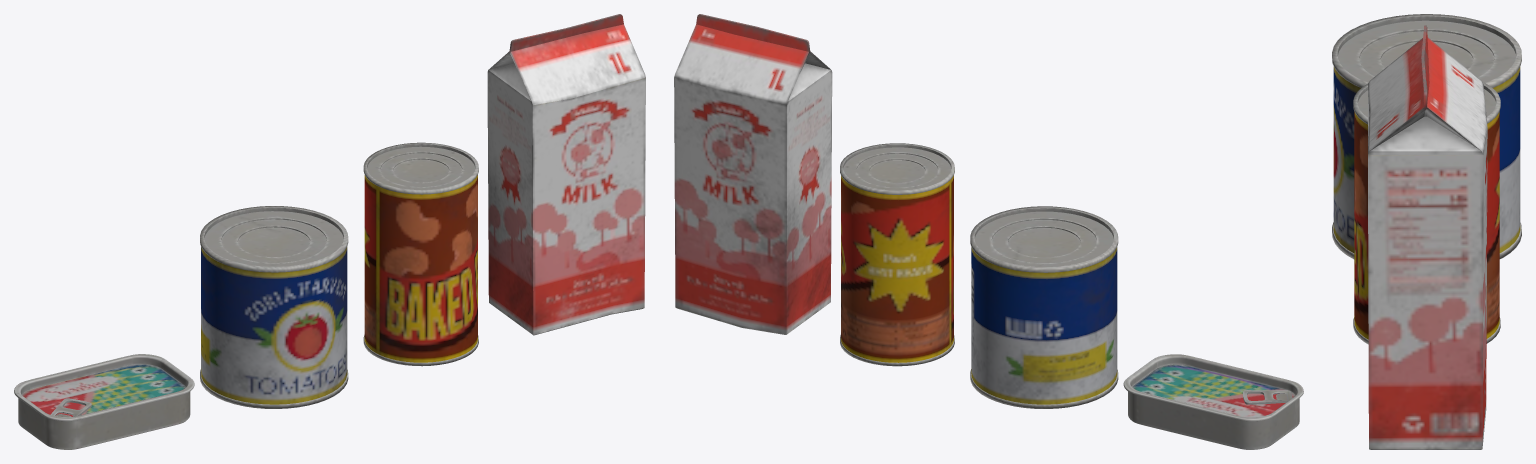
File: long_life_food.db44968049.glb
The picture shows the model from 3 angles, left to right: view 1: azimuth 30°, elevation 25°; view 2: azimuth 150°, elevation 25°; view 3: azimuth 270°, elevation 25°; orthographic projection. The views are drawn at different scales.
Visible parts, largest first — view 1: long_life_food_milk, long_life_food_tomatoes, long_life_food_beans, long_life_food_sardines; view 2: long_life_food_milk, long_life_food_tomatoes, long_life_food_beans, long_life_food_sardines; view 3: long_life_food_milk, long_life_food_tomatoes, long_life_food_beans.
Part boxes in pixels (x1,y1,x2,y2): long_life_food_milk: (487,14,645,335); long_life_food_tomatoes: (200,206,348,408); long_life_food_beans: (363,142,478,366); long_life_food_sardines: (14,354,194,449); long_life_food_milk: (674,14,832,334); long_life_food_tomatoes: (970,206,1118,408); long_life_food_beans: (840,143,954,366); long_life_food_sardines: (1123,354,1303,449); long_life_food_milk: (1368,25,1487,449); long_life_food_tomatoes: (1332,14,1521,259); long_life_food_beans: (1353,81,1500,344).
Size of the model in its own units: 0.5238 by 0.2376 by 0.1136.
Materials: 1 (1 with a texture image).
